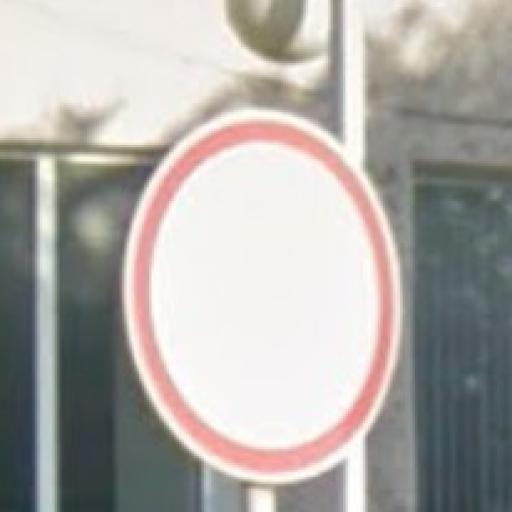traffic_sign: (125, 106, 406, 485)
